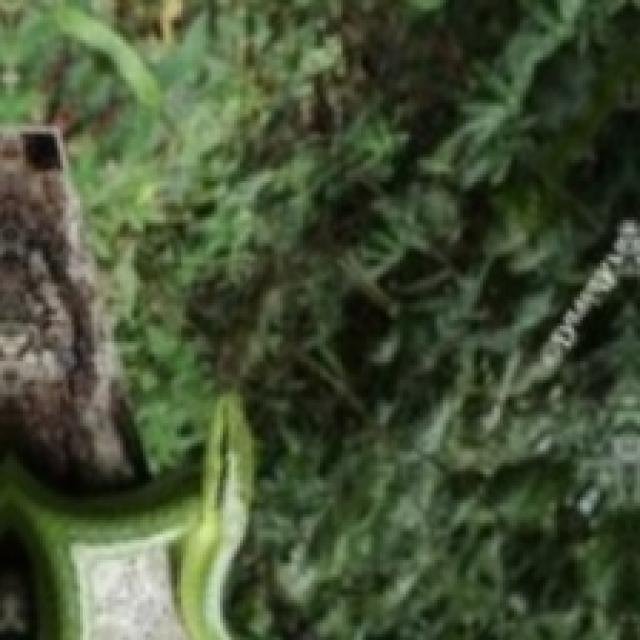red-tailed green ratsnake: (0, 391, 255, 640)
